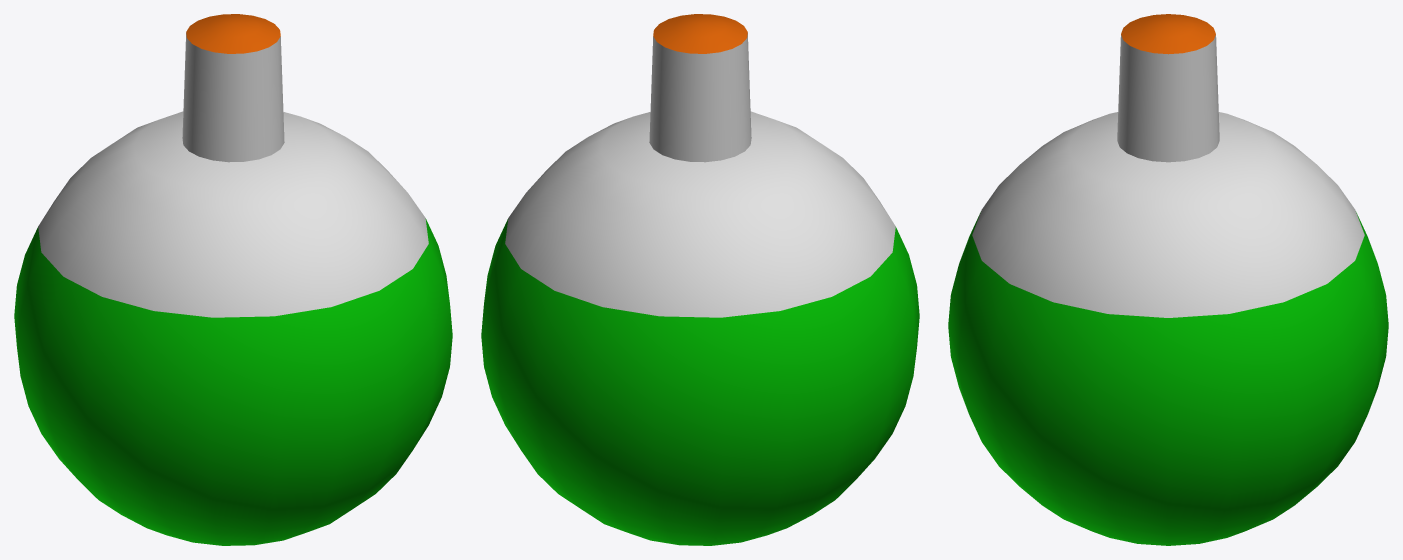
Rendered from Potion_Base.fbx.
3 views of the same model, side by side, from view 1: azimuth 30°, elevation 25°; view 2: azimuth 150°, elevation 25°; view 3: azimuth 270°, elevation 25° (orthographic).
Parts seen in each view (by area): view 1: Potion; view 2: Potion; view 3: Potion.
Boxes of the visible parts, x1,y1,x2,y2 form: Potion: (14, 14, 452, 545); Potion: (481, 14, 919, 545); Potion: (948, 14, 1388, 545).
Bounding box in the file's own units: 0.4129 × 0.5186 × 0.4129.
